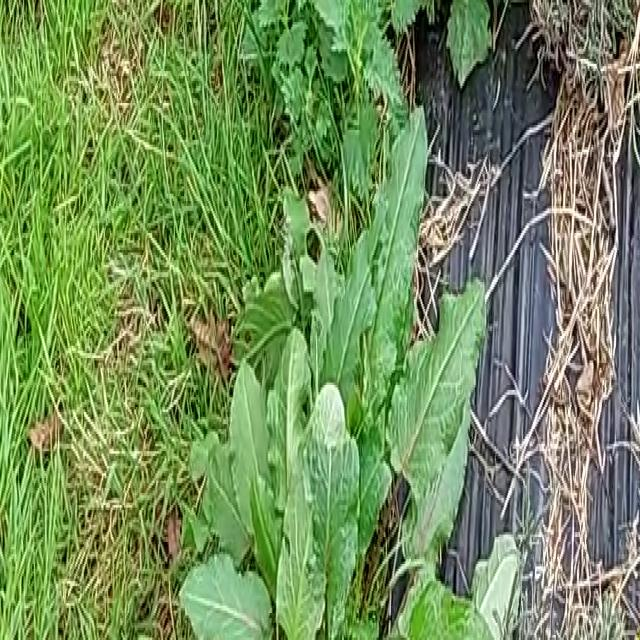organic waste: (212, 137, 490, 640)
